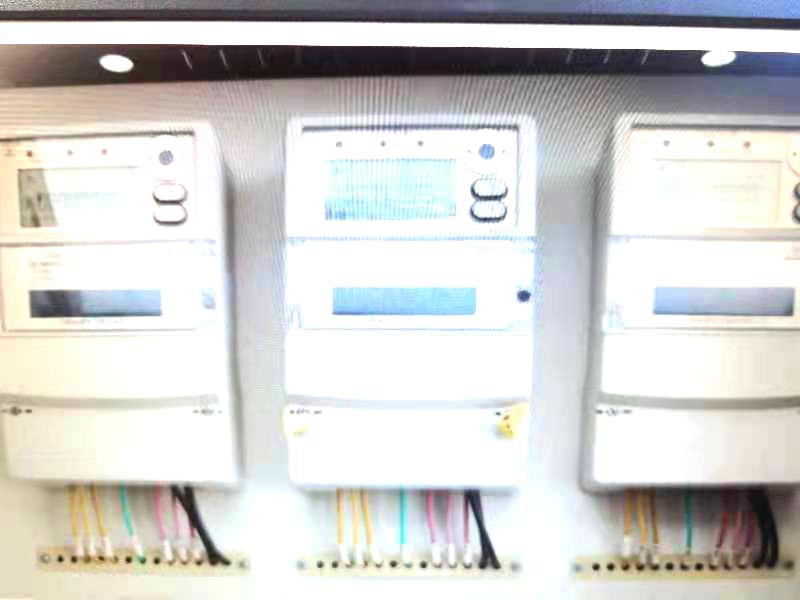digital: (283, 113, 534, 490), (1, 119, 236, 485), (591, 108, 800, 482)
